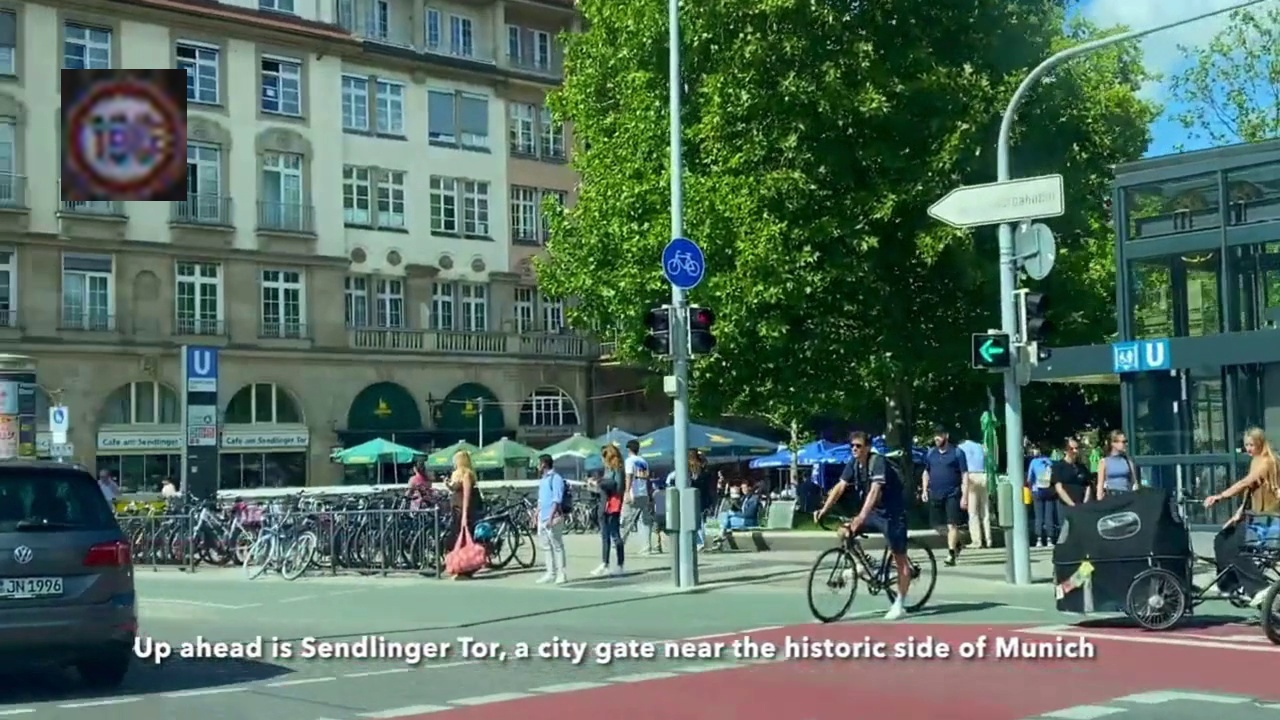Speed 100: (61, 69, 187, 201)
